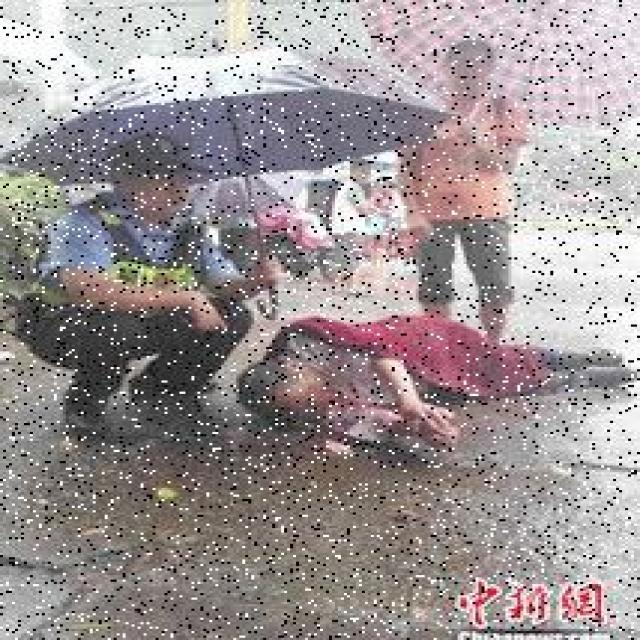fall: (239, 320, 634, 434)
